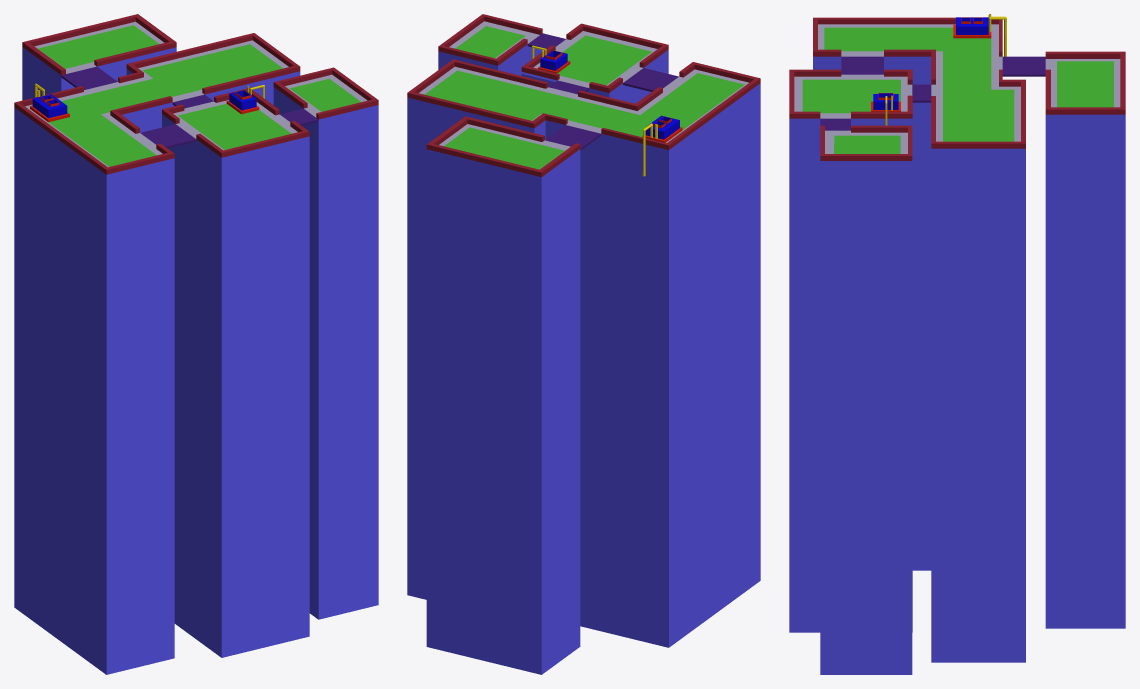
File: scena_2.fbx
3 views of the same model, side by side, from view 1: azimuth 30°, elevation 25°; view 2: azimuth 150°, elevation 25°; view 3: azimuth 270°, elevation 25° (orthographic). The views are drawn at different scales.
Visible parts, largest first — view 1: Cube; view 2: Cube; view 3: Cube.
Boxes of the visible parts, x1,y1,x2,y2 form: Cube: (14, 14, 378, 674); Cube: (407, 14, 760, 674); Cube: (789, 14, 1125, 674).
Bounding box in the file's own units: 690 × 1236 × 709.
